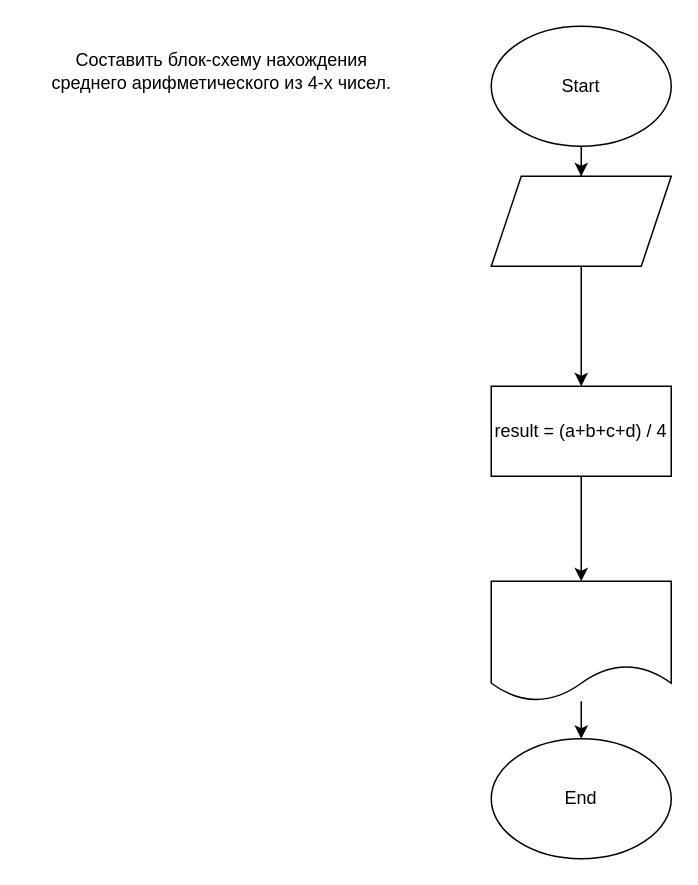
This 698x885 diagram has some shape labels left out. Here are the shapes that lost their labels. From the top down, the centre of each, then its label:
At point 580,220: "a, b, c, d".
At point 580,640: "print(result)".
